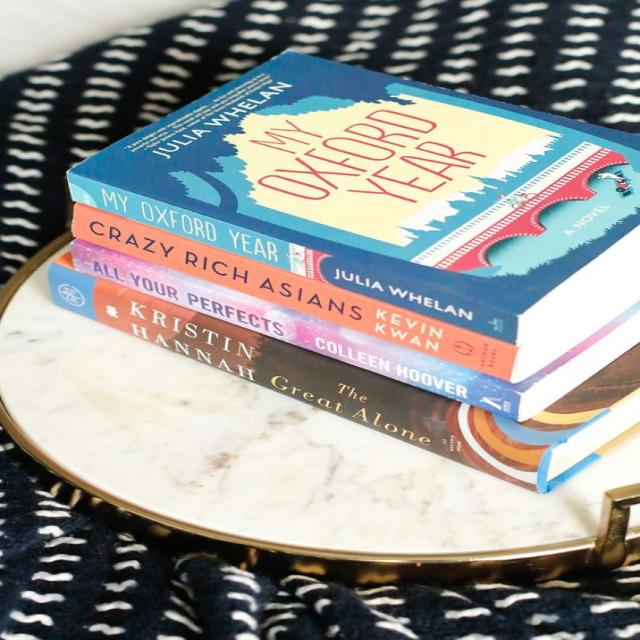book: (50, 261, 554, 494), (71, 202, 514, 384), (71, 242, 518, 421), (70, 172, 524, 342)
